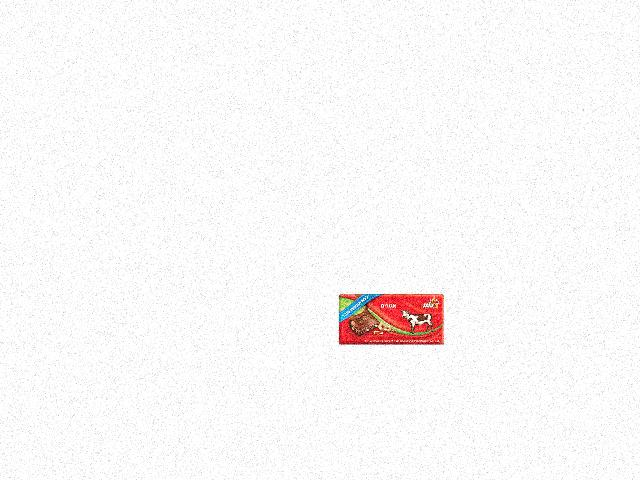chocolate: (339, 293, 448, 343)
